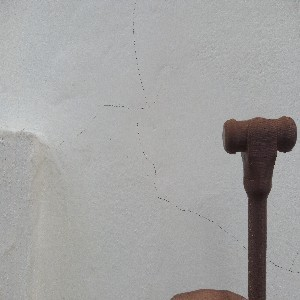palu: (222, 115, 298, 300)
